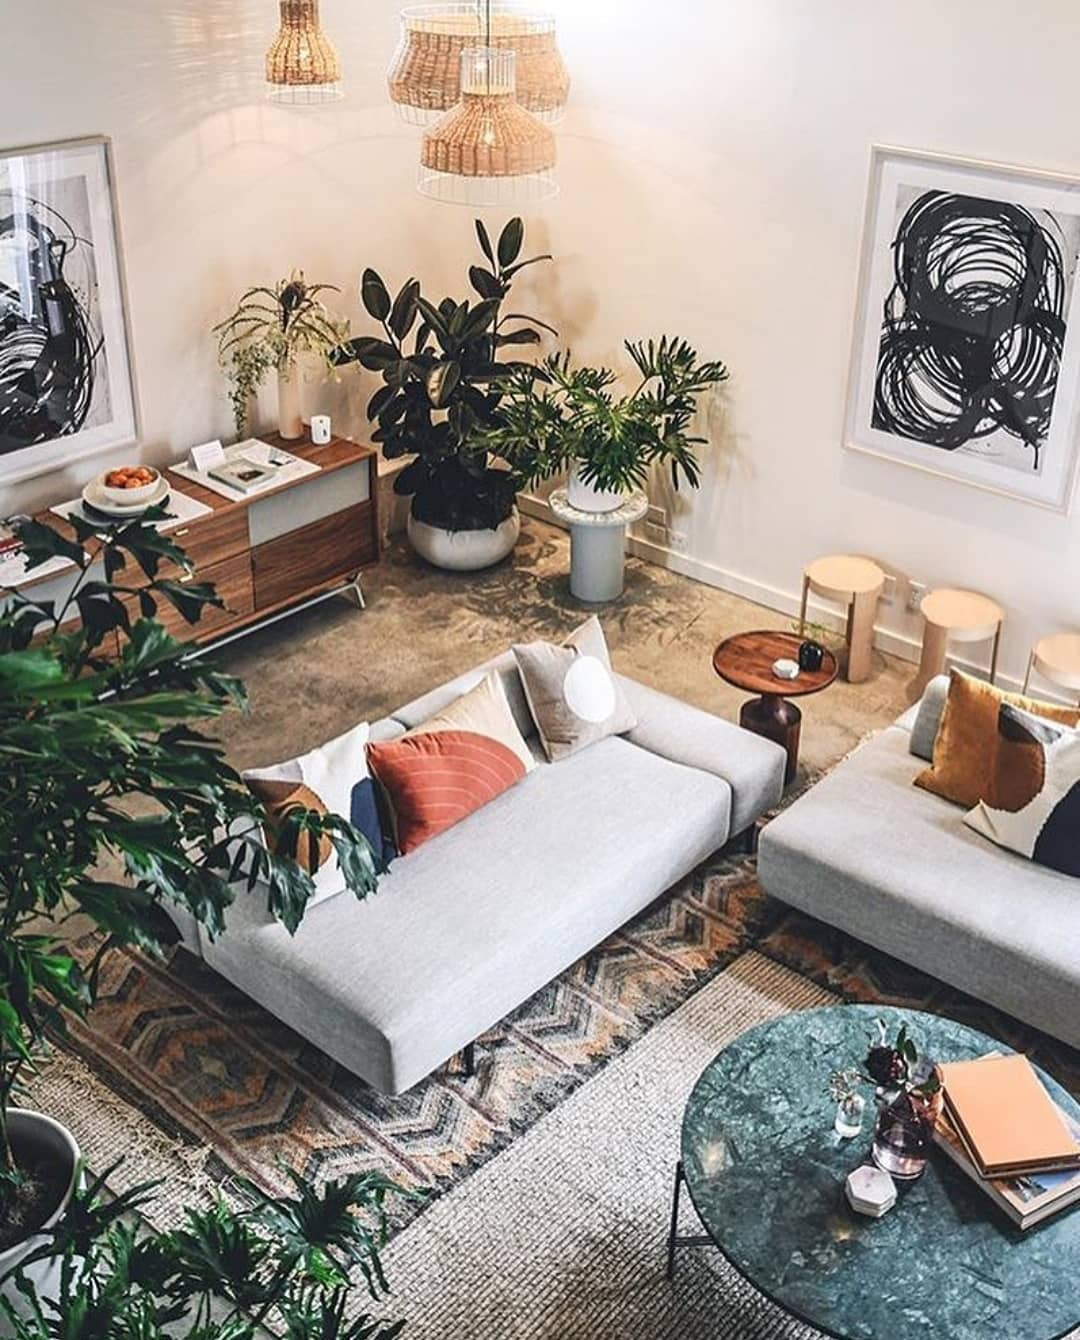bantal: (925, 677, 1080, 877), (355, 682, 529, 849), (252, 733, 397, 895), (521, 619, 639, 738)
buku: (917, 1056, 1080, 1222)
gelas: (312, 414, 337, 449)
kursi: (912, 563, 1004, 695), (793, 552, 884, 684)
lukisan: (1, 119, 162, 487)
meja: (685, 995, 1080, 1340), (701, 636, 835, 721)
sova: (179, 640, 793, 1050)
tanaman: (1, 512, 262, 1211), (1, 1156, 408, 1340), (369, 220, 533, 574), (517, 350, 704, 504), (230, 259, 336, 462)
